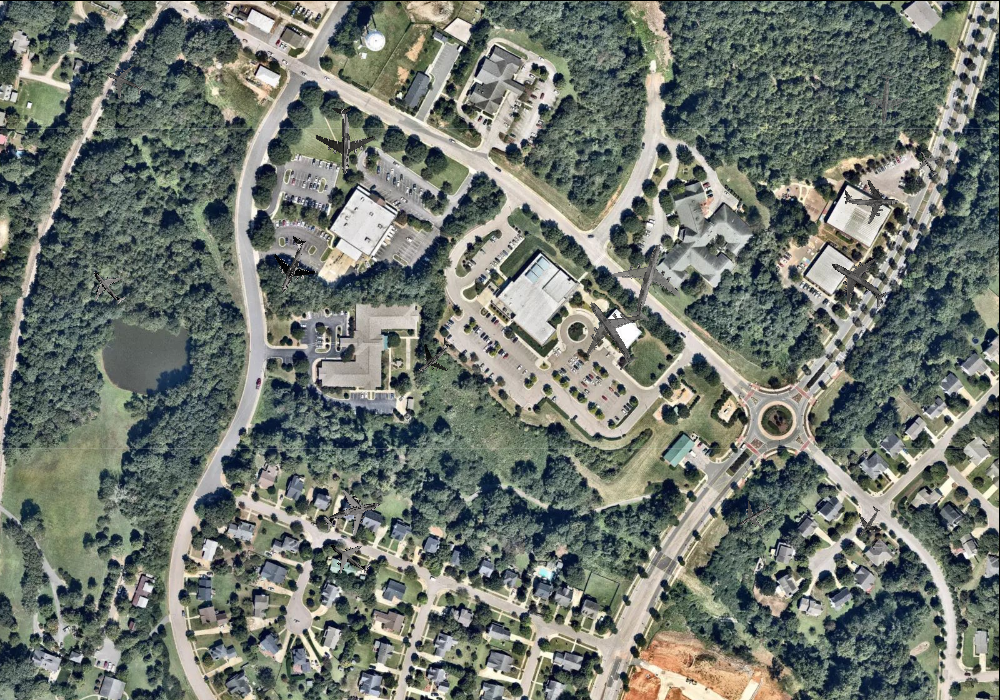plane: (560, 283, 661, 384), (601, 234, 694, 330), (816, 240, 900, 324), (255, 228, 327, 302), (316, 480, 387, 548), (310, 105, 376, 174), (319, 528, 380, 587), (404, 328, 463, 386), (79, 258, 136, 315), (843, 173, 900, 225), (860, 71, 912, 126), (98, 56, 149, 106), (731, 492, 779, 539), (845, 499, 892, 546), (910, 144, 947, 182)
